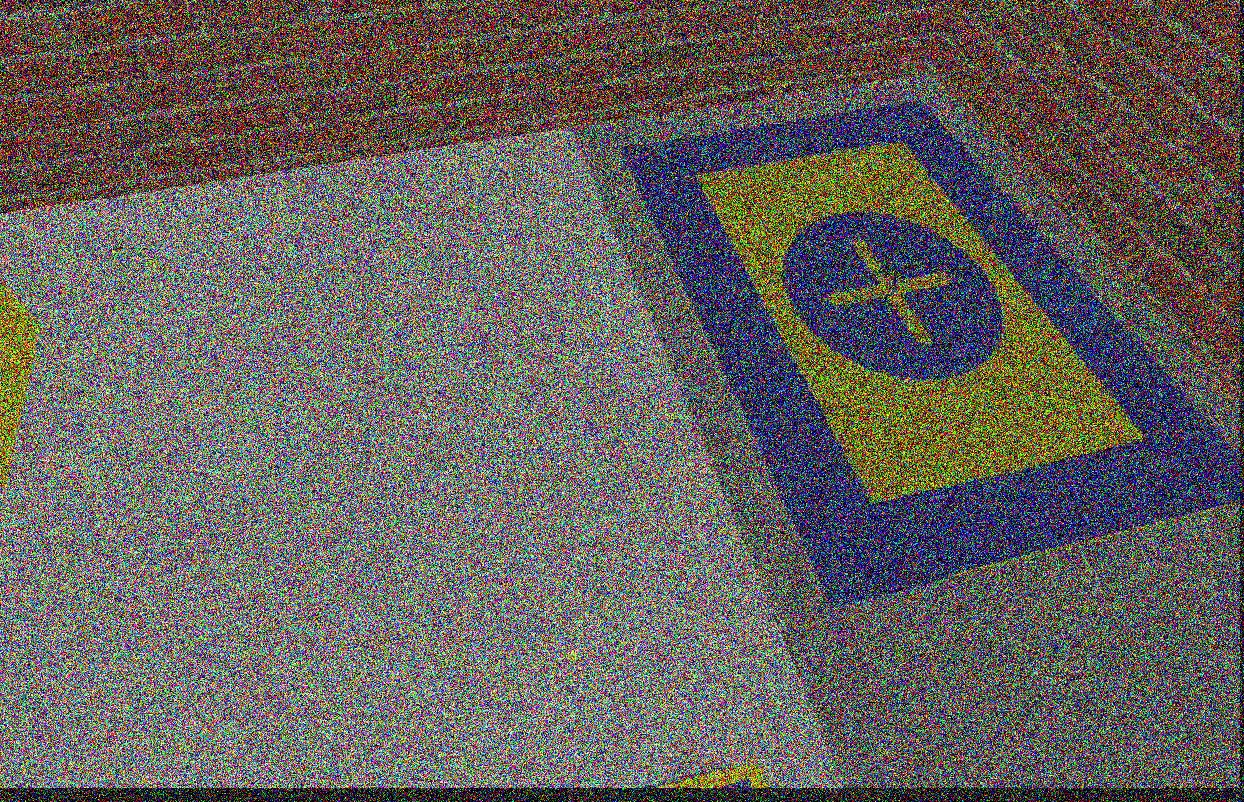large_base: (621, 100, 1238, 608)
